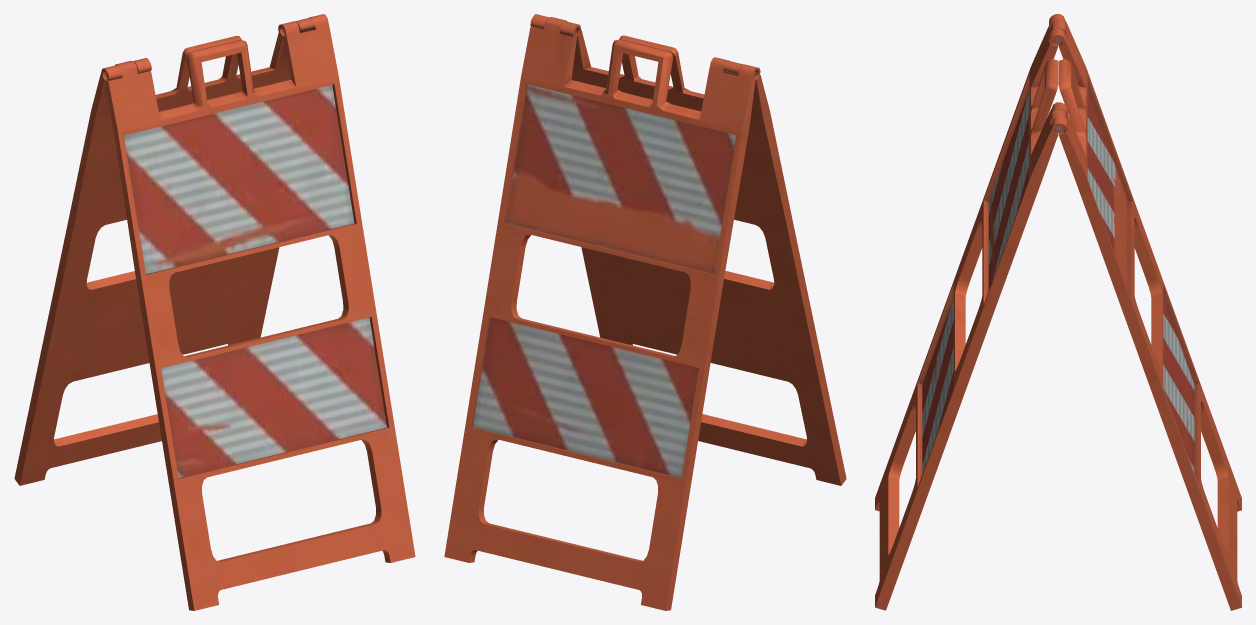
Rendered from SM_Plastic_barricade_09_8b8c49.glb.
3 views of the same model, side by side, from view 1: azimuth 30°, elevation 25°; view 2: azimuth 150°, elevation 25°; view 3: azimuth 270°, elevation 25° (orthographic).
Bounding box in the file's own units: 0.6562 × 1.35 × 0.9185.
Materials: 1 (1 with a texture image).
